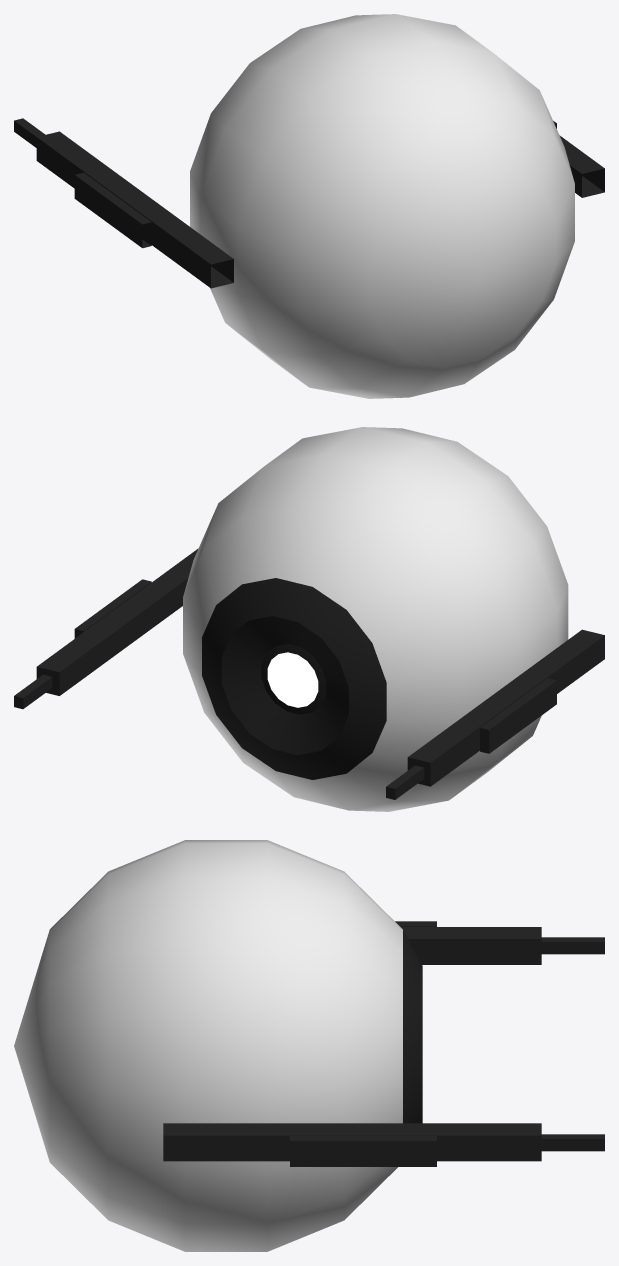
File: enemy01.glb
3 views of the same model, one above another, from view 1: azimuth 30°, elevation 25°; view 2: azimuth 150°, elevation 25°; view 3: azimuth 270°, elevation 25° (orthographic). The views are drawn at different scales.
Visible parts, largest first — view 1: enemy01_Baked; view 2: enemy01_Baked; view 3: enemy01_Baked.
Boxes of the visible parts, box(x1,y1,x2,y2) form: enemy01_Baked: box(14, 14, 604, 398); enemy01_Baked: box(14, 427, 604, 811); enemy01_Baked: box(14, 840, 604, 1251).
Size of the model in its own units: 0.3177 by 0.2499 by 0.3616.
Materials: 1 (1 with a texture image).
